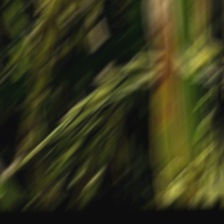Leaf_Blast: (141, 0, 194, 174)
